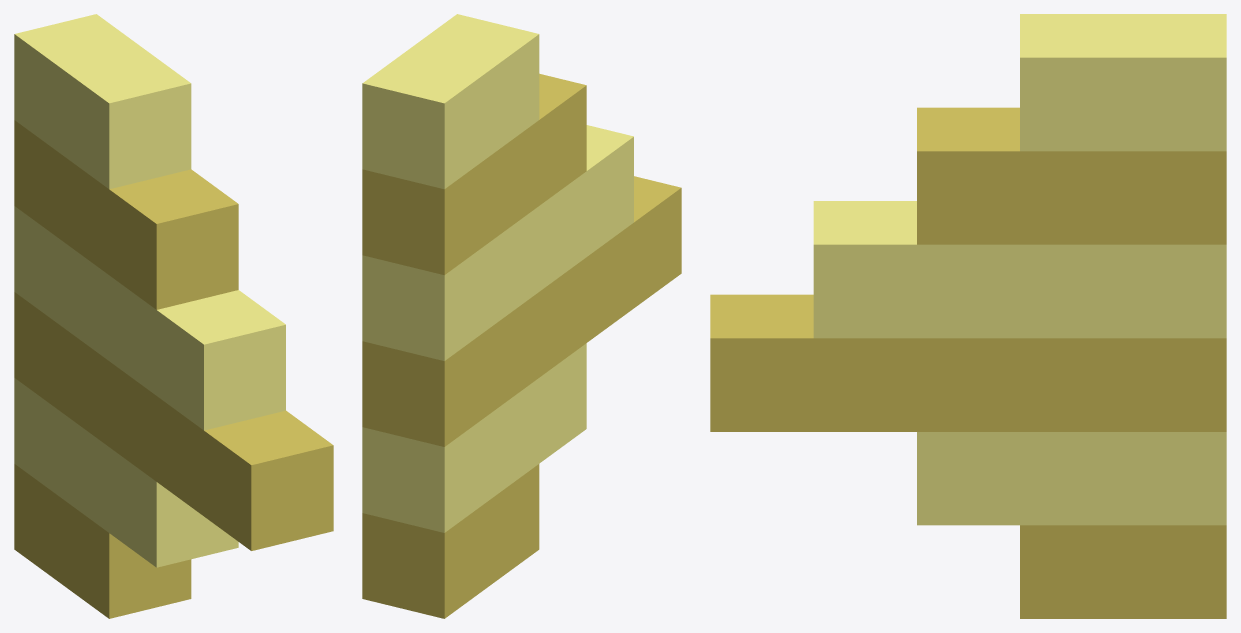
The model's file is YellowHouseParts-13.obj.
3 renders of one model, left to right at view 1: azimuth 30°, elevation 25°; view 2: azimuth 150°, elevation 25°; view 3: azimuth 270°, elevation 25°, orthographic. The views are drawn at different scales.
Size of the model in its own units: 0.1 by 0.6 by 0.5.
1 material, 1 textured.
